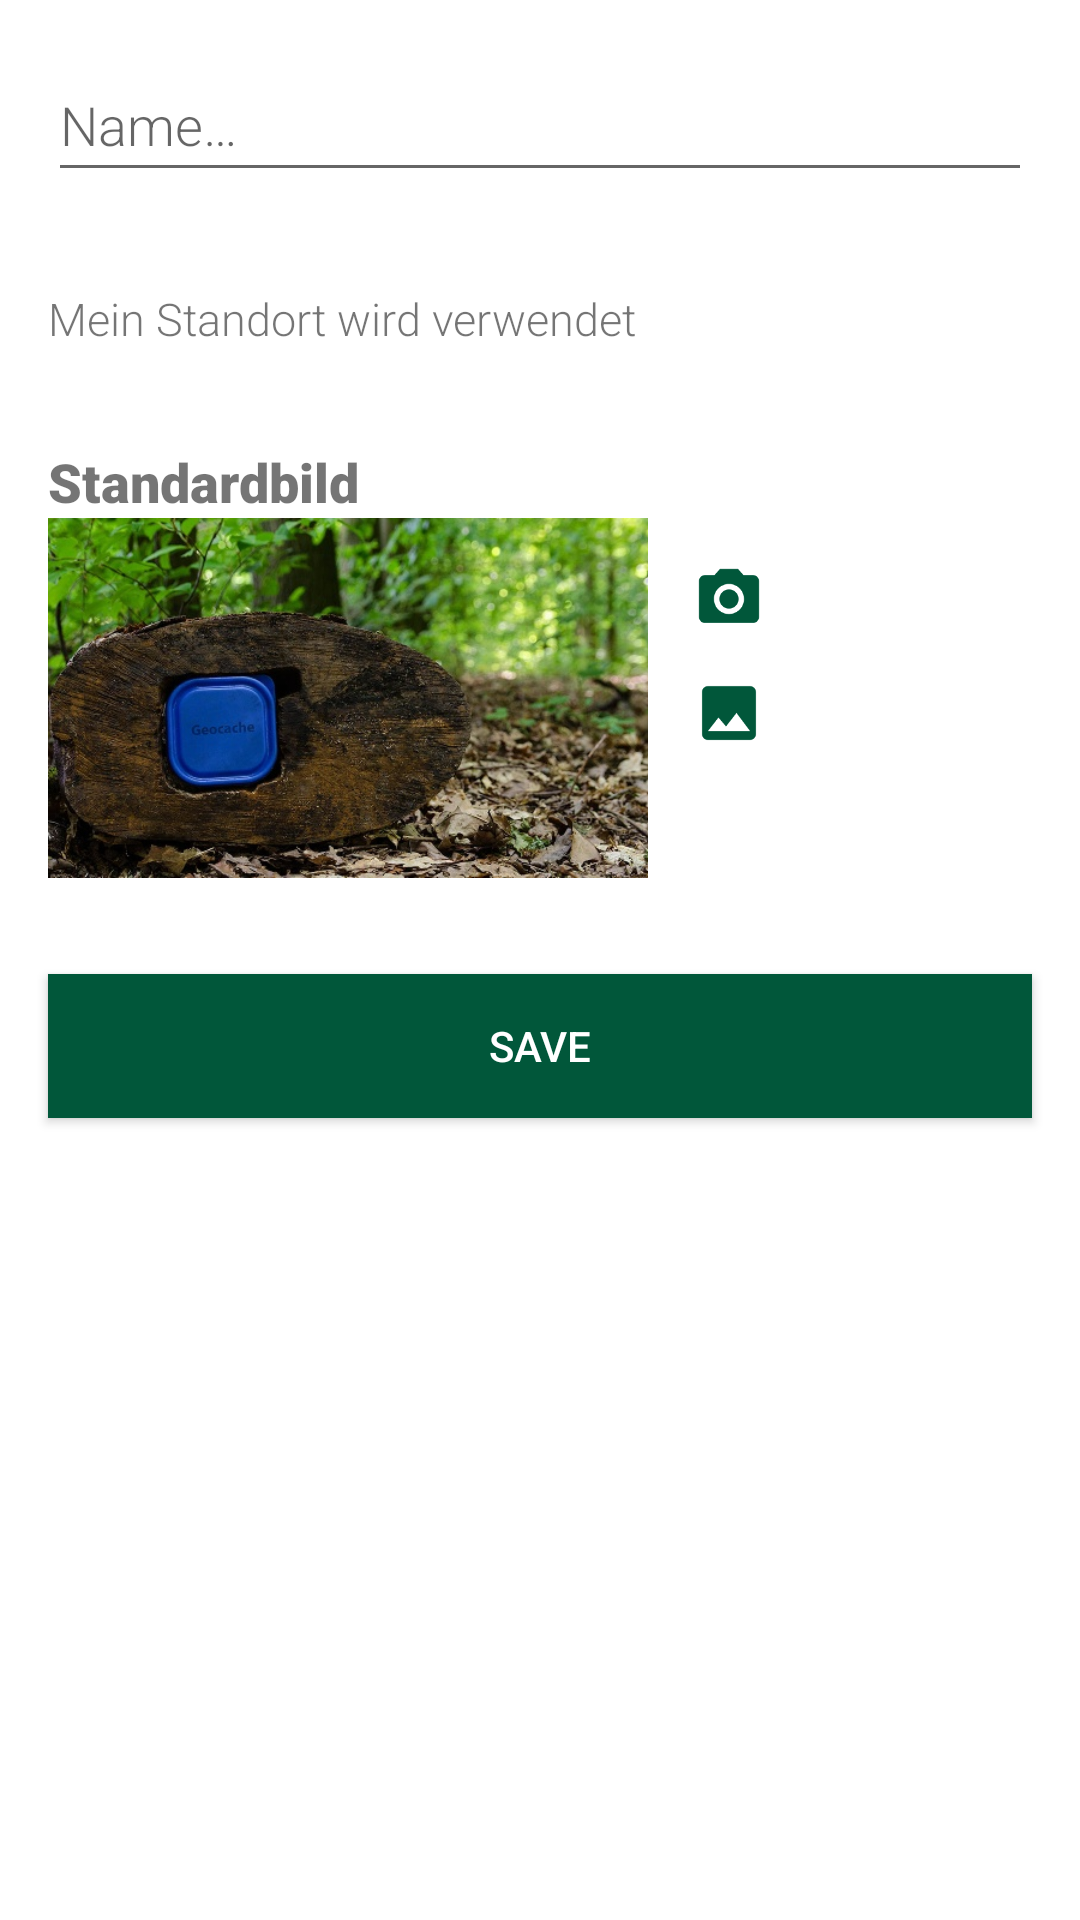

Icons on this 1080 × 1920 Android screen, each with the point to tap as (x,y):
camera icon: (729,595)
gallery icon: (729,713)
